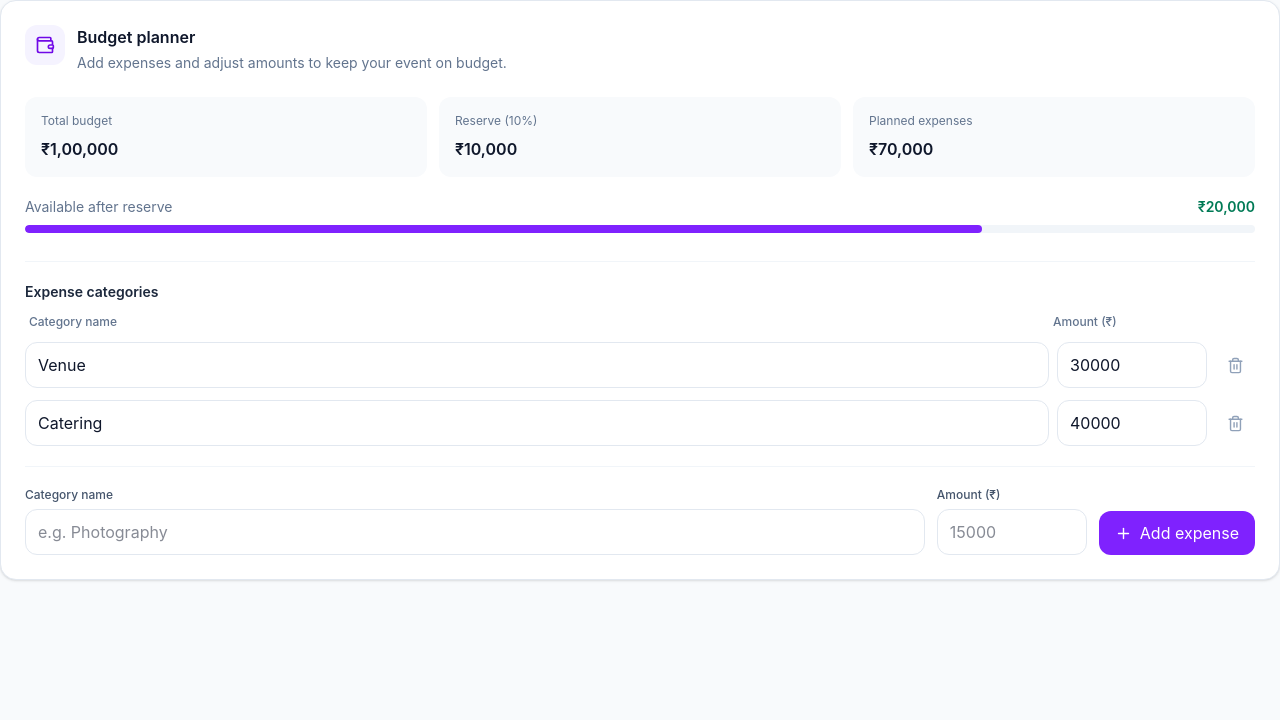
BudgetPanel › validates name and amount
Click the button "Add expense" at x=1177, y=533, box [1099,511,1255,555]
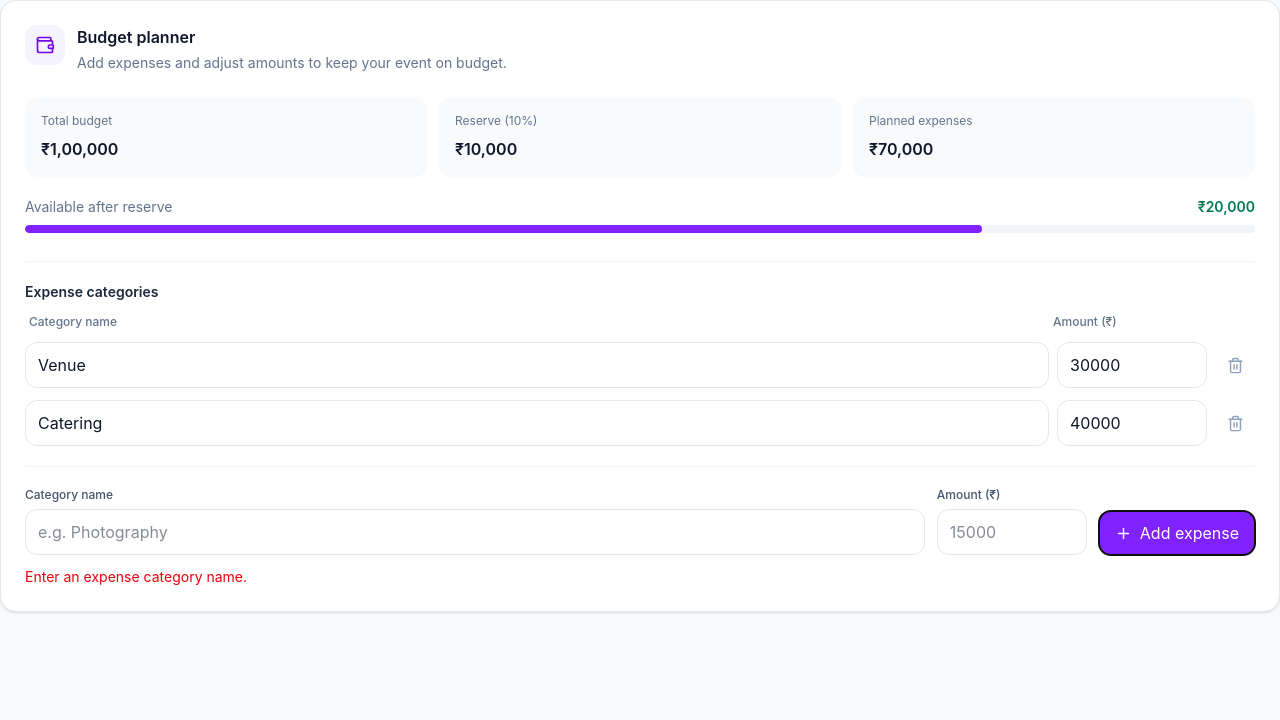
Expected: the message shows "category name", [25,568,247,585]
Type "Music" into the field with placeholder "e.g. Photography" at x=475, y=532, box [25,509,925,555]
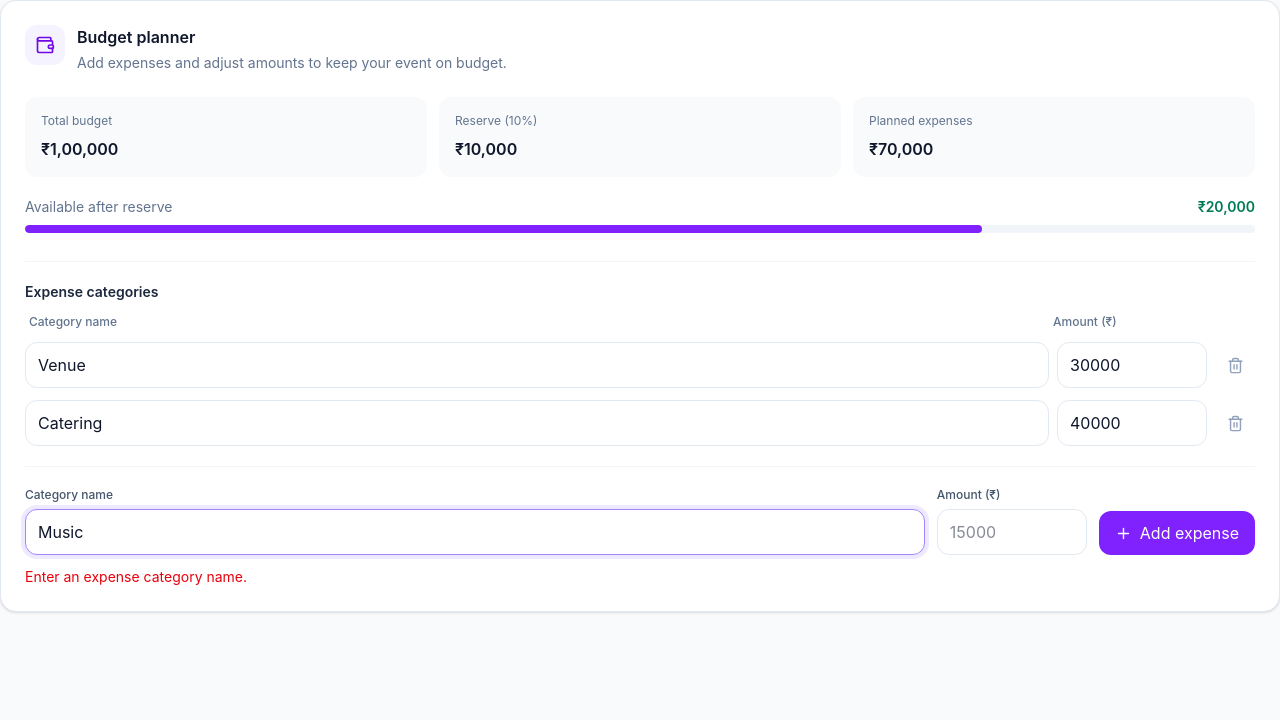
Click the button "Add expense" at x=1177, y=533, box [1099,511,1255,555]
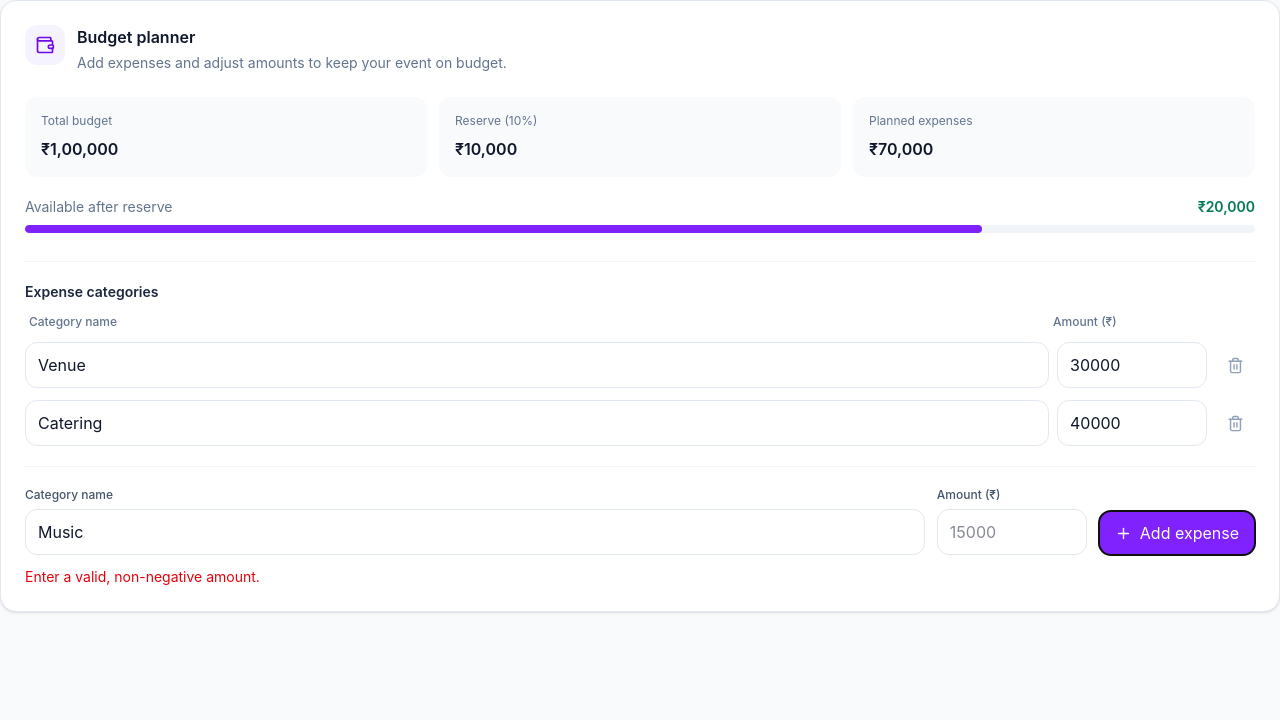
Expected: the message shows "valid, non-negative amount", [25,568,260,585]
